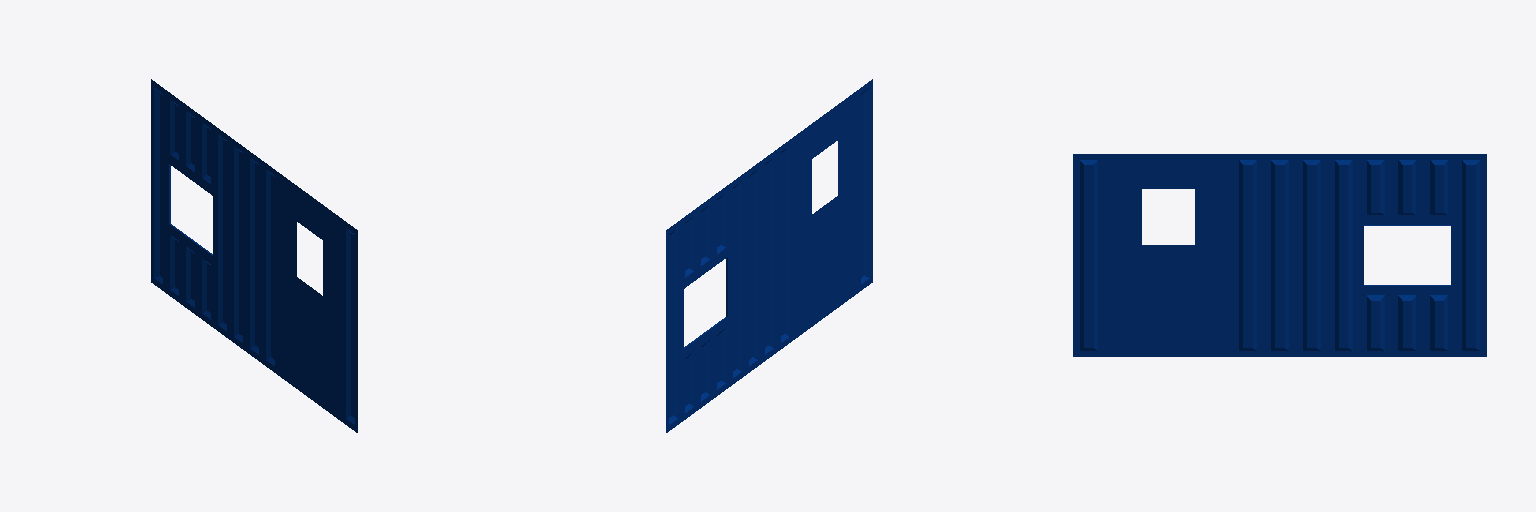
The model's file is ContainerFront.obj.
The picture shows the model from 3 angles: view 1: azimuth 30°, elevation 25°; view 2: azimuth 150°, elevation 25°; view 3: azimuth 270°, elevation 25°; orthographic projection.
Parts seen in each view (by area): view 1: Plane001; view 2: Plane001; view 3: Plane001.
Part boxes in pixels (x1,y1,x2,y2): Plane001: (151, 79, 357, 432); Plane001: (666, 79, 872, 432); Plane001: (1073, 154, 1486, 356).
Bounding box in the file's own units: 4 × 260 × 480.